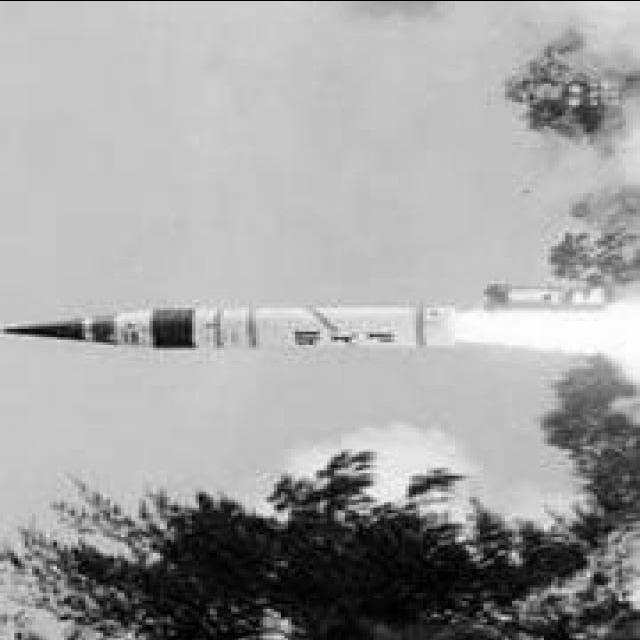missile: (4, 298, 468, 359)
